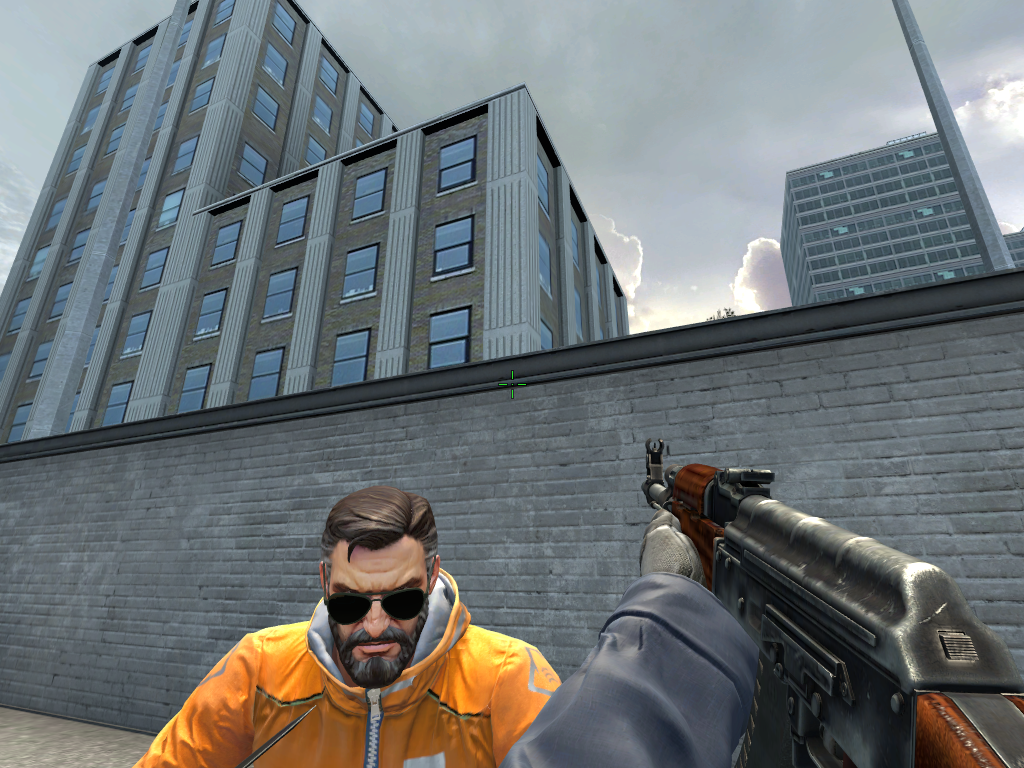tr head: (332, 516, 422, 679)
